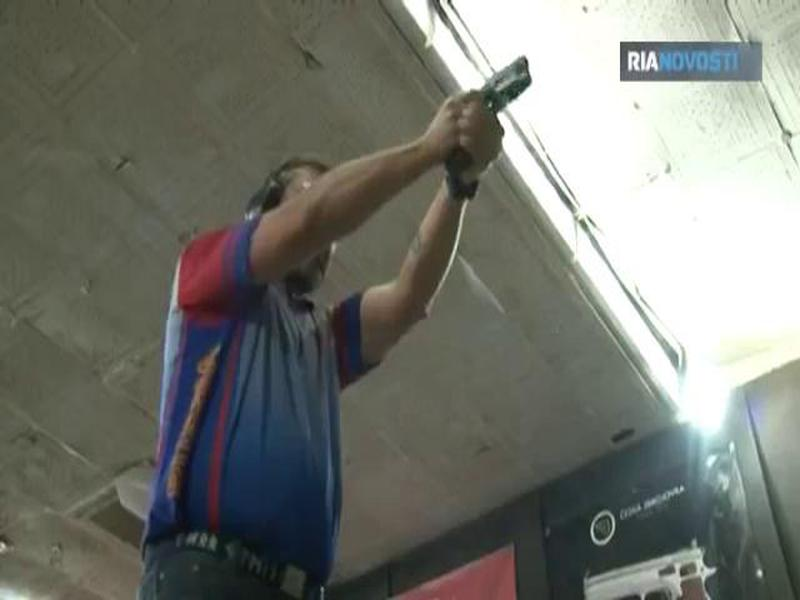Pistola: (428, 48, 532, 198)
